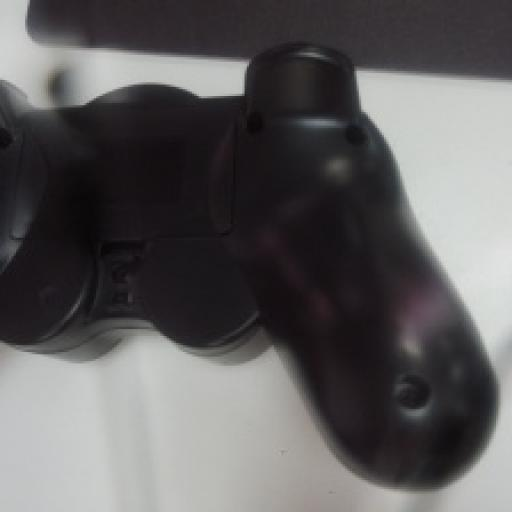game pad: (2, 46, 496, 487)
